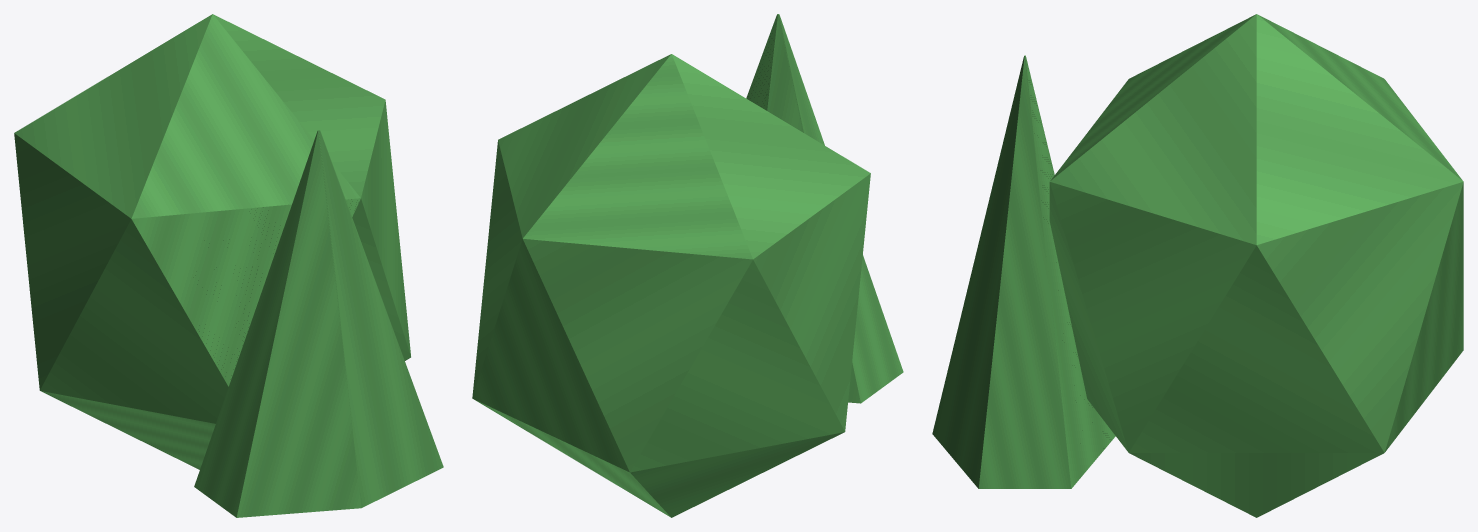
Rendered from shock.glb.
The picture shows the model from 3 angles, left to right: view 1: azimuth 30°, elevation 25°; view 2: azimuth 150°, elevation 25°; view 3: azimuth 270°, elevation 25°; orthographic projection. The views are drawn at different scales.
Parts seen in each view (by area): view 1: gear_shock; view 2: gear_shock; view 3: gear_shock.
Boxes of the visible parts, bbox=[...] form: gear_shock: bbox=[14, 14, 443, 517]; gear_shock: bbox=[472, 14, 903, 517]; gear_shock: bbox=[932, 14, 1463, 517].
Bounding box in the file's own units: 0.1878 × 0.24 × 0.2293.
1 material, 1 textured.
